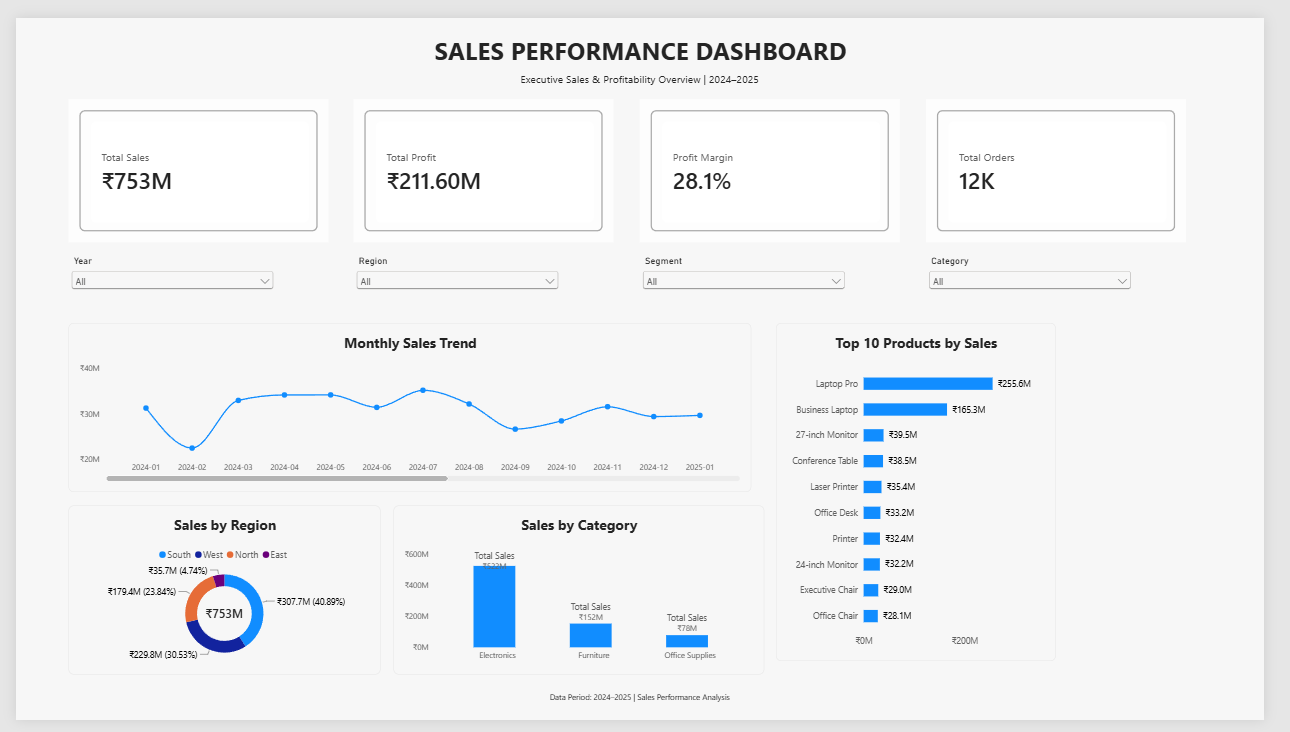

Layout of this report page (visuals, bound fields, positions):
{"tool":"powerbi","page":{"name":"Page 1","canvas":[1920,1080],"ordinal":0},"visuals":[{"type":"cardVisual","fields":{"Data":["Sales.Total Sales"]},"box":[80,125,400,220],"z":0},{"type":"cardVisual","fields":{"Data":["Sales.Total Orders"]},"box":[1400,125,400,220],"z":1000},{"type":"cardVisual","fields":{"Data":["Sales.Profit Margin"]},"box":[960,125,400,220],"z":2000},{"type":"cardVisual","fields":{"Data":["Sales.Total Profit"]},"box":[520,125,400,220],"z":3000},{"type":"lineChart","title":"Monthly Sales Trend","fields":{"Y":["Sales.Total Sales"],"Category":["Date.Year_Month"]},"box":[80,470,1050,260],"z":4000},{"type":"donutChart","title":"Sales by Region","fields":{"Category":["Regions.Region"],"Y":["Sales.Total Sales"]},"box":[80,750,480,260],"z":5000},{"type":"clusteredBarChart","title":"Top 10 Products by Sales","fields":{"Y":["Sales.Total Sales"],"Category":["Products.Product_Name"]},"box":[1170,470,430,520],"z":6000},{"type":"clusteredColumnChart","title":"Sales by Category","fields":{"Category":["Products.Category"],"Y":["Sales.Total Sales"]},"box":[580,750,570,260],"z":7000},{"type":"slicer","fields":{"Values":["Date.Year"]},"box":[80,365,320,80],"z":8000},{"type":"slicer","fields":{"Values":["Regions.Region"]},"box":[520,365,320,80],"z":9000},{"type":"slicer","fields":{"Values":["Products.Category"]},"box":[1400,365,320,80],"z":10000},{"type":"slicer","fields":{"Values":["Customers.Segment"]},"box":[960,365,320,80],"z":11000},{"type":"textbox","box":[80,25,1760,55],"z":12000},{"type":"textbox","box":[160,82,1600,30],"z":13000},{"type":"textbox","box":[160,1035,1600,25],"z":13001}]}

Visuals, with their boxes in screenshot pixels (x1, y1, x2, y2), scaled from the page's 1920x1080 canvas onto the 1290x732 screenshot:
cardVisual - Sales.Total Sales: l=54, t=85, r=322, b=234
cardVisual - Sales.Total Orders: l=941, t=85, r=1209, b=234
cardVisual - Sales.Profit Margin: l=645, t=85, r=914, b=234
cardVisual - Sales.Total Profit: l=349, t=85, r=618, b=234
"Monthly Sales Trend" lineChart: l=54, t=319, r=759, b=495
"Sales by Region" donutChart: l=54, t=508, r=376, b=685
"Top 10 Products by Sales" clusteredBarChart: l=786, t=319, r=1075, b=671
"Sales by Category" clusteredColumnChart: l=390, t=508, r=773, b=685
slicer - Date.Year: l=54, t=247, r=269, b=302
slicer - Regions.Region: l=349, t=247, r=564, b=302
slicer - Products.Category: l=941, t=247, r=1156, b=302
slicer - Customers.Segment: l=645, t=247, r=860, b=302
textbox: l=54, t=17, r=1236, b=54
textbox: l=108, t=56, r=1182, b=76
textbox: l=108, t=702, r=1182, b=718
